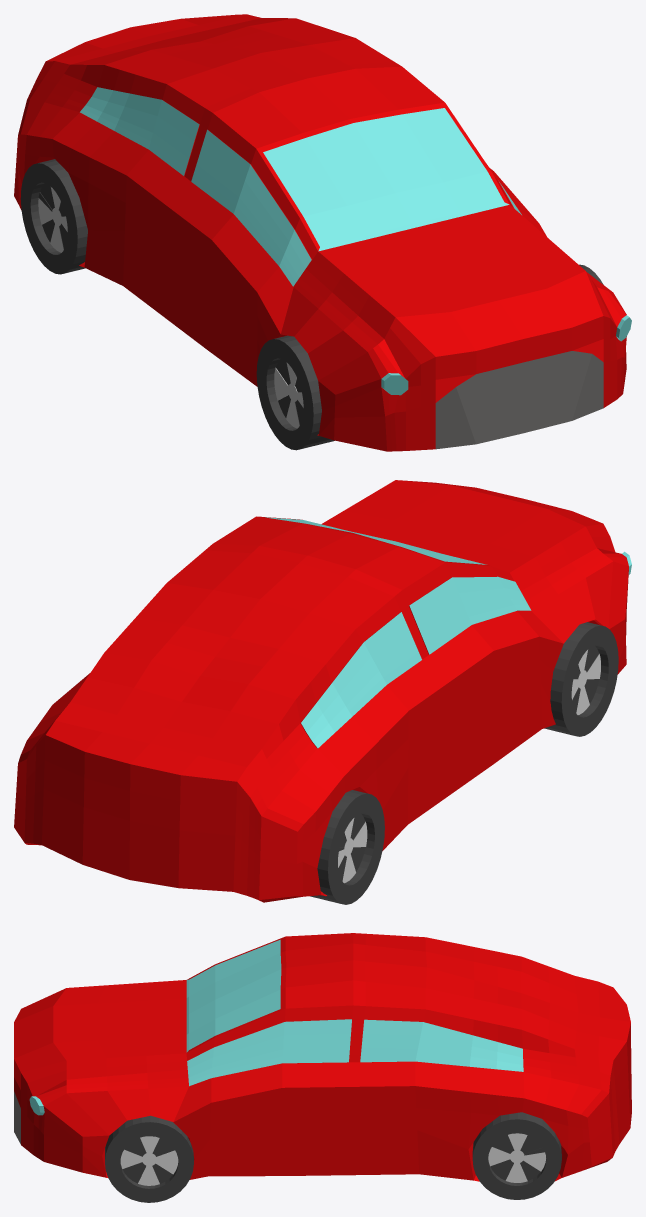
The model's file is Coche_LP.fbx.
The picture shows the model from 3 angles, top to bottom: view 1: azimuth 30°, elevation 25°; view 2: azimuth 150°, elevation 25°; view 3: azimuth 270°, elevation 25°; orthographic projection. The views are drawn at different scales.
Parts seen in each view (by area): view 1: Cube; view 2: Cube; view 3: Cube.
Boxes of the visible parts, bbox=[...] form: Cube: bbox=[14, 14, 631, 451]; Cube: bbox=[14, 480, 631, 904]; Cube: bbox=[14, 933, 631, 1202].
Size of the model in its own units: 746 by 546 by 1659.
